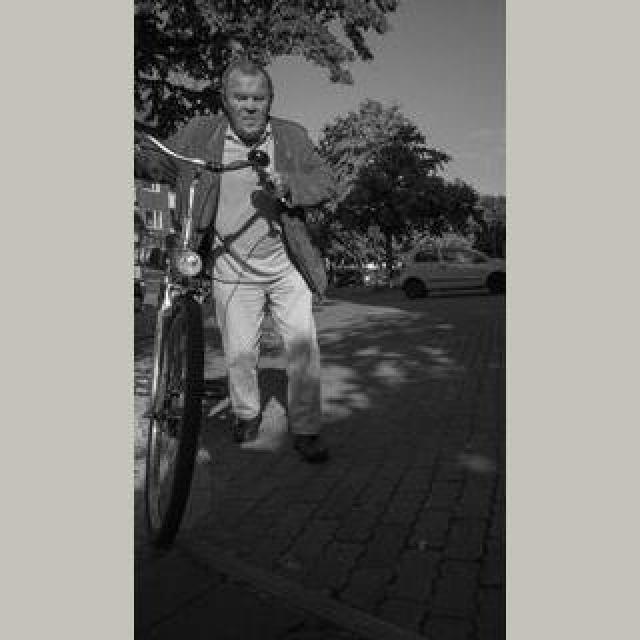Bus-Bike: (394, 246, 506, 300)
MC-Bike: (167, 50, 335, 472)
Person: (134, 192, 212, 552)
